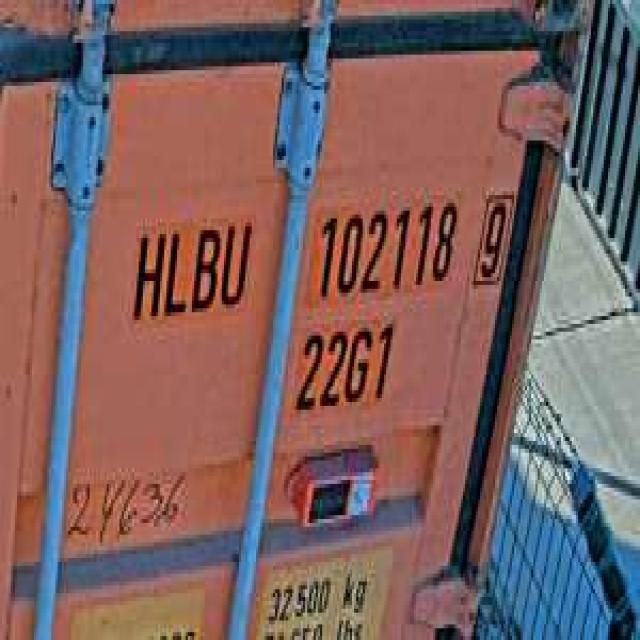dv: (469, 180, 514, 292)
owner: (126, 203, 256, 328)
serial: (312, 188, 458, 304)
size: (290, 312, 401, 418)
